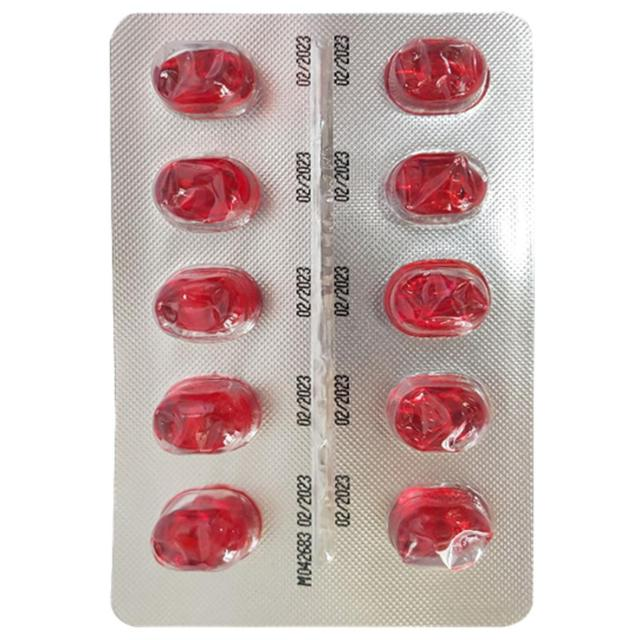blister: (99, 7, 542, 635)
